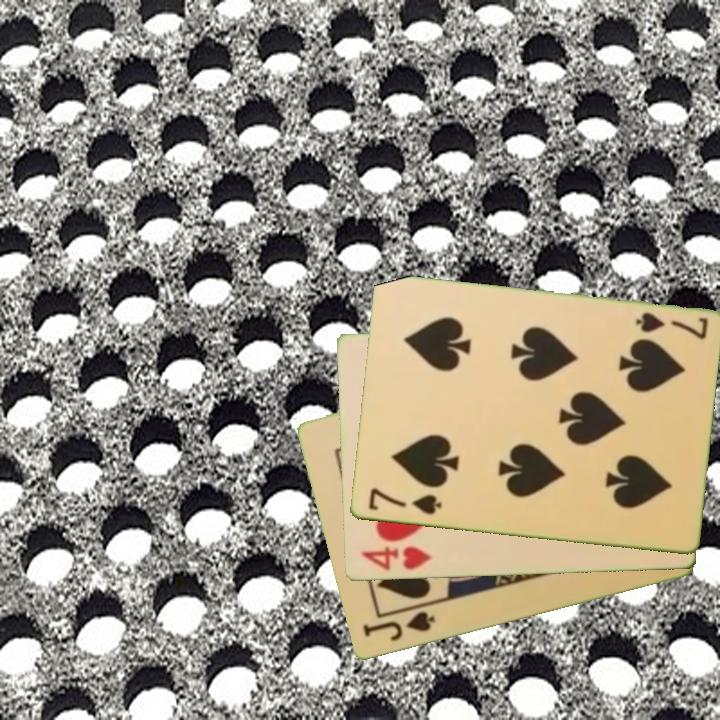4h: (357, 543, 434, 574)
7s: (364, 484, 444, 518), (631, 309, 710, 343)
Js: (359, 608, 438, 645)
